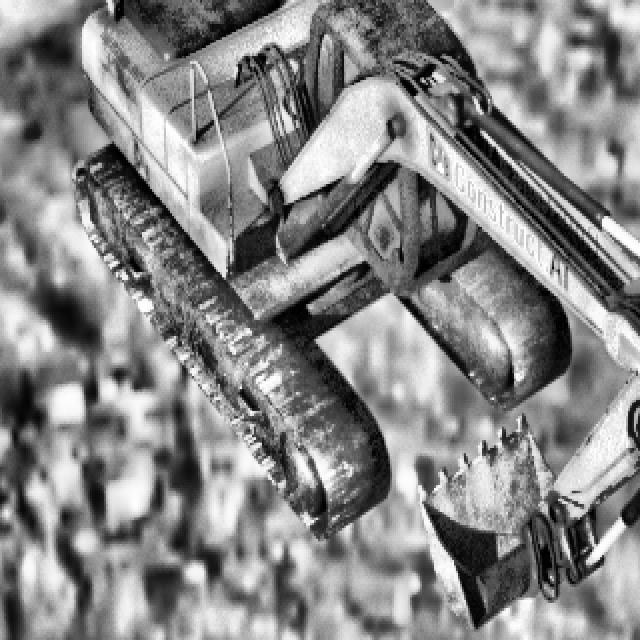excavator: (70, 0, 640, 627)
